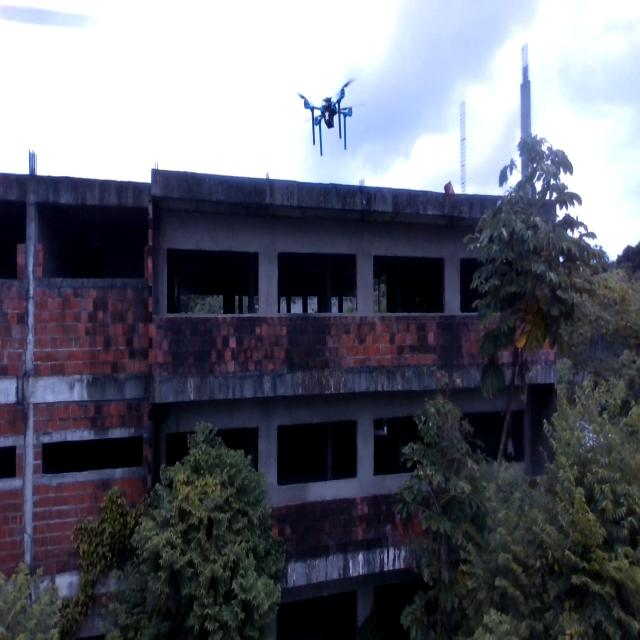-uav-: (287, 68, 375, 175)
